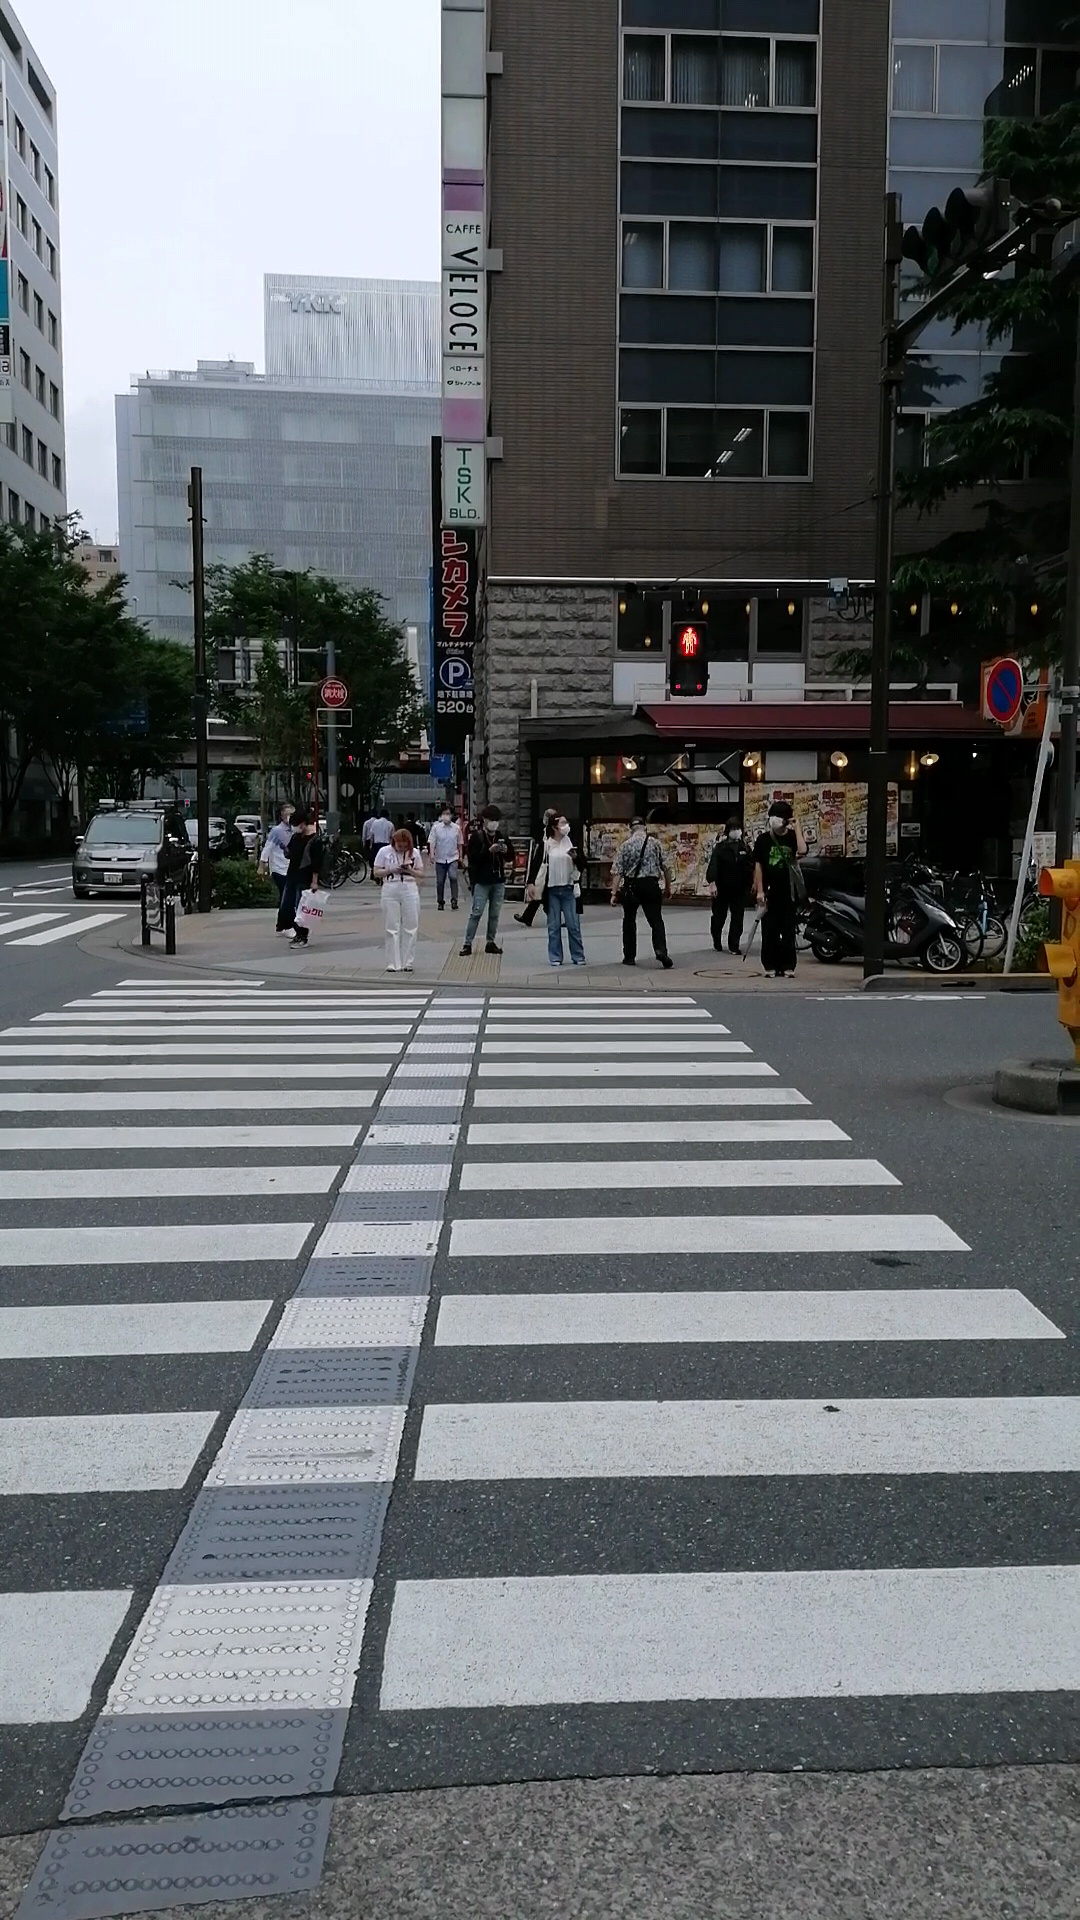red: (669, 621, 707, 696)
